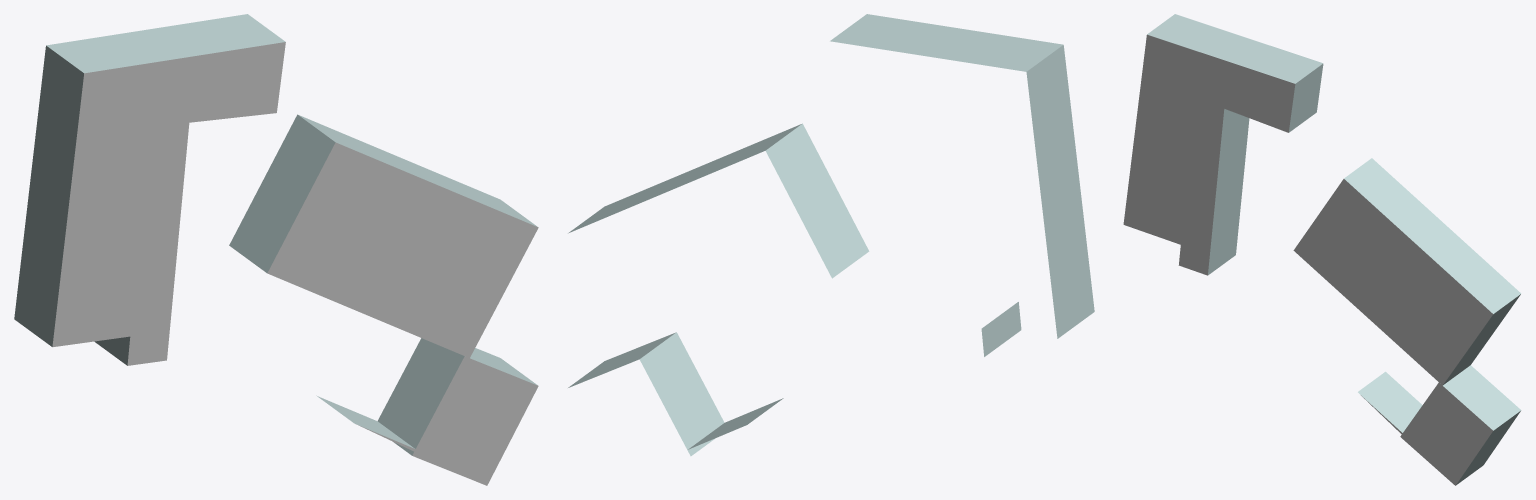
The picture shows the model from 3 angles, left to right: view 1: azimuth 30°, elevation 25°; view 2: azimuth 150°, elevation 25°; view 3: azimuth 330°, elevation 25°; orthographic projection. The views are drawn at different scales.
Parts seen in each view (by area): view 1: 0_3_2_1_2_3_0_3_0; view 2: 0_3_2_1_2_3_0_3_0; view 3: 0_3_2_1_2_3_0_3_0.
Part boxes in pixels (left/top/right/bottom): 0_3_2_1_2_3_0_3_0: left=14, top=14, right=538, bottom=485; 0_3_2_1_2_3_0_3_0: left=568, top=14, right=1094, bottom=456; 0_3_2_1_2_3_0_3_0: left=1123, top=14, right=1521, bottom=485.
Size of the model in its own units: 22.42 by 22.48 by 3.63.
